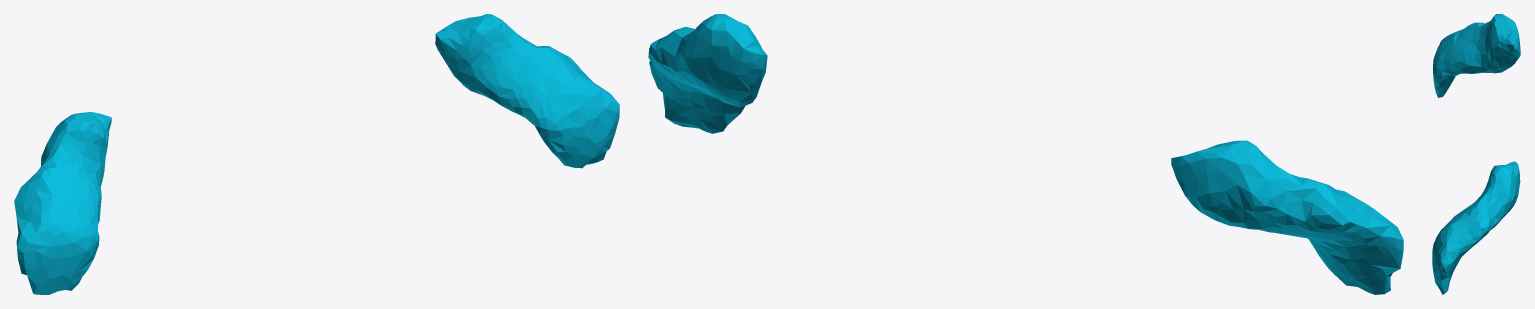
File: 3-45B-area 45B of cortex-('0.0000', '0.8431', '1.0000').obj
3 views of the same model, side by side, from view 1: azimuth 30°, elevation 25°; view 2: azimuth 150°, elevation 25°; view 3: azimuth 270°, elevation 25° (orthographic). The views are drawn at different scales.
Bounding box in the file's own units: 267 × 56.96 × 45.37.
